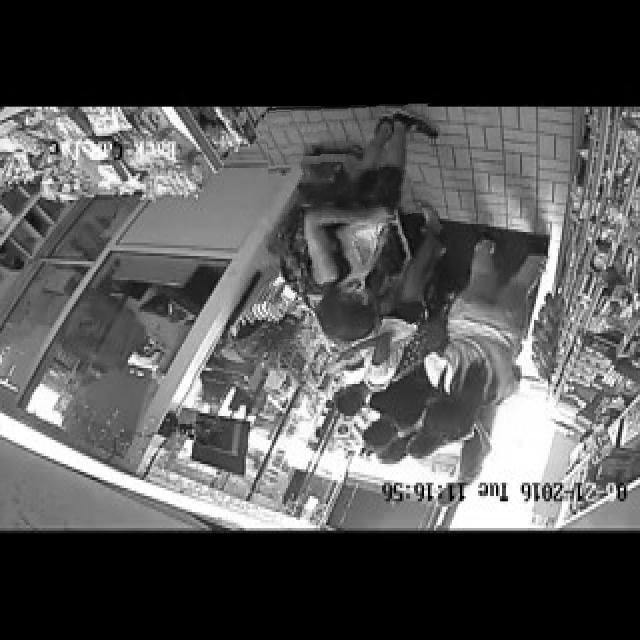Shoplifting: (268, 104, 437, 339)
